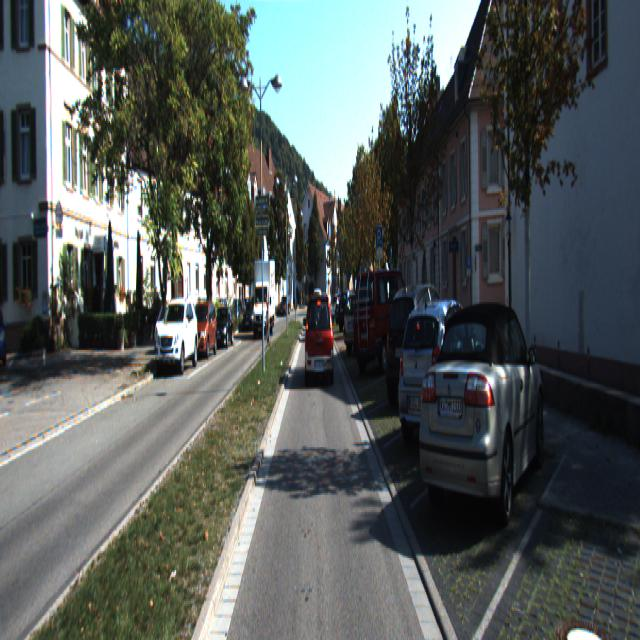Car: (418, 293, 548, 533), (394, 293, 489, 455), (384, 279, 460, 410), (351, 268, 415, 375), (156, 300, 198, 374), (344, 293, 390, 356), (306, 294, 336, 386), (187, 301, 218, 361), (251, 264, 276, 338), (154, 304, 179, 355), (335, 292, 365, 333), (212, 308, 234, 349), (242, 299, 260, 332), (0, 307, 8, 365)
